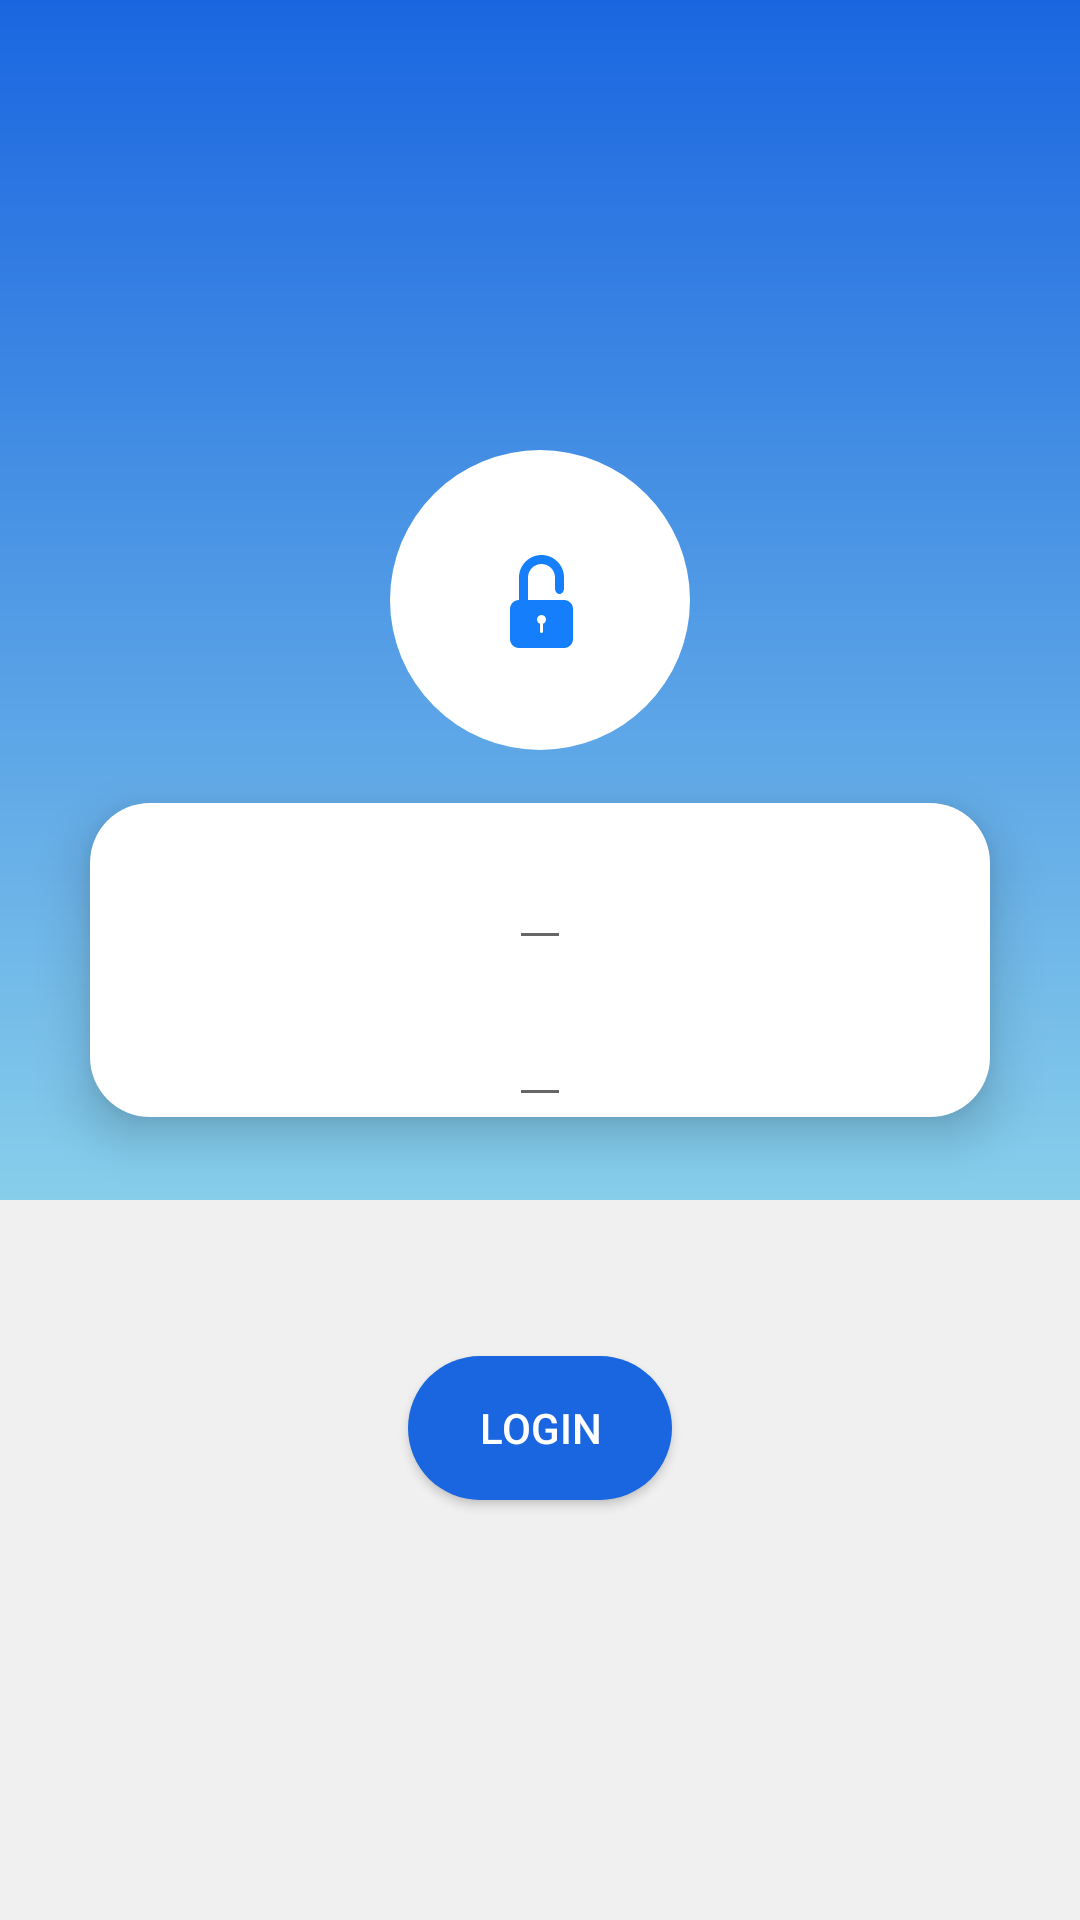

Icons on this 1080x1920 Android screen, each with its box as (x1, y1, x2, y2):
unlock: (390, 450, 690, 750)
